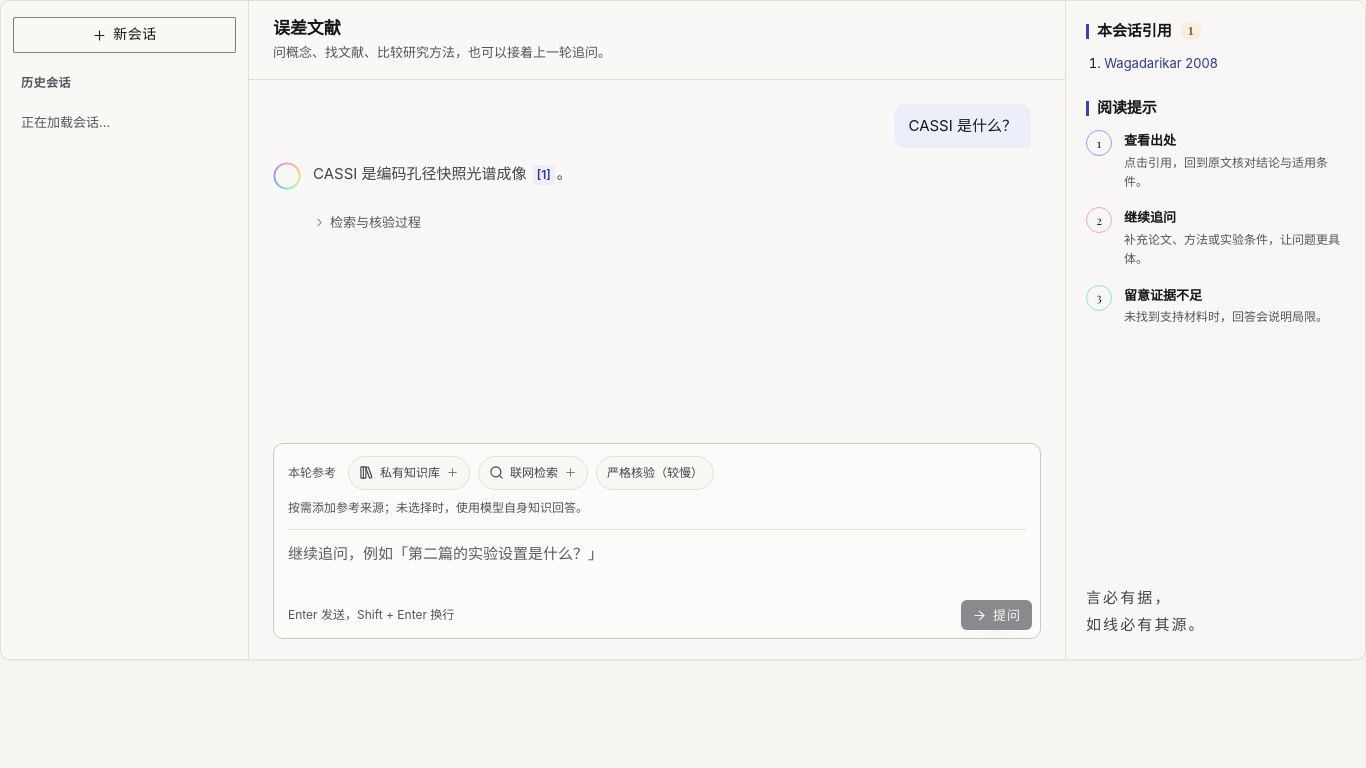
QaPage › recovers the new answer when the same question was answered after the cache loaded
Expected: the text "CASSI 是什么？" is shown, [908,114,1017,138]
Type "CASSI 是什么？" into the text box named "输入问题". click: [657, 562]
box: [274,530,1040,594]
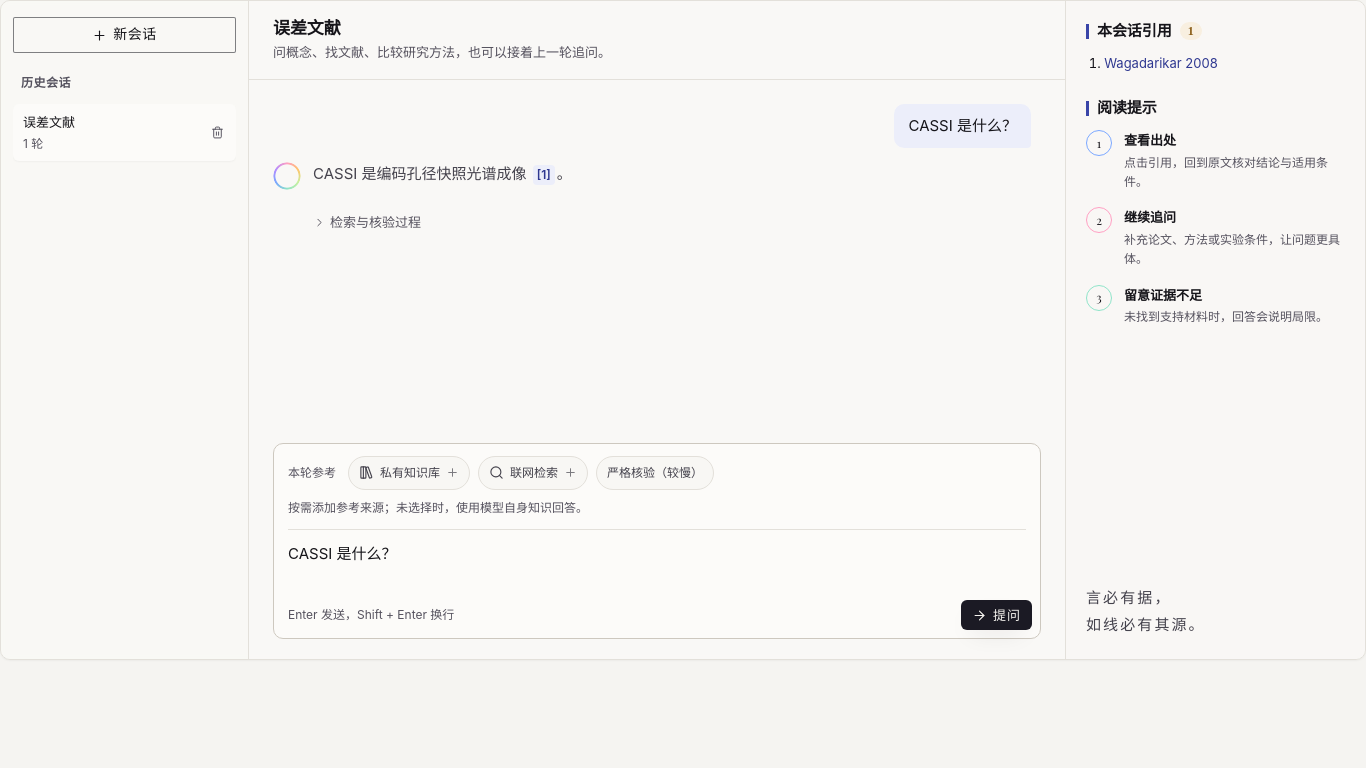
Click the button "提问". click: [996, 615]
box: [961,600,1032,630]
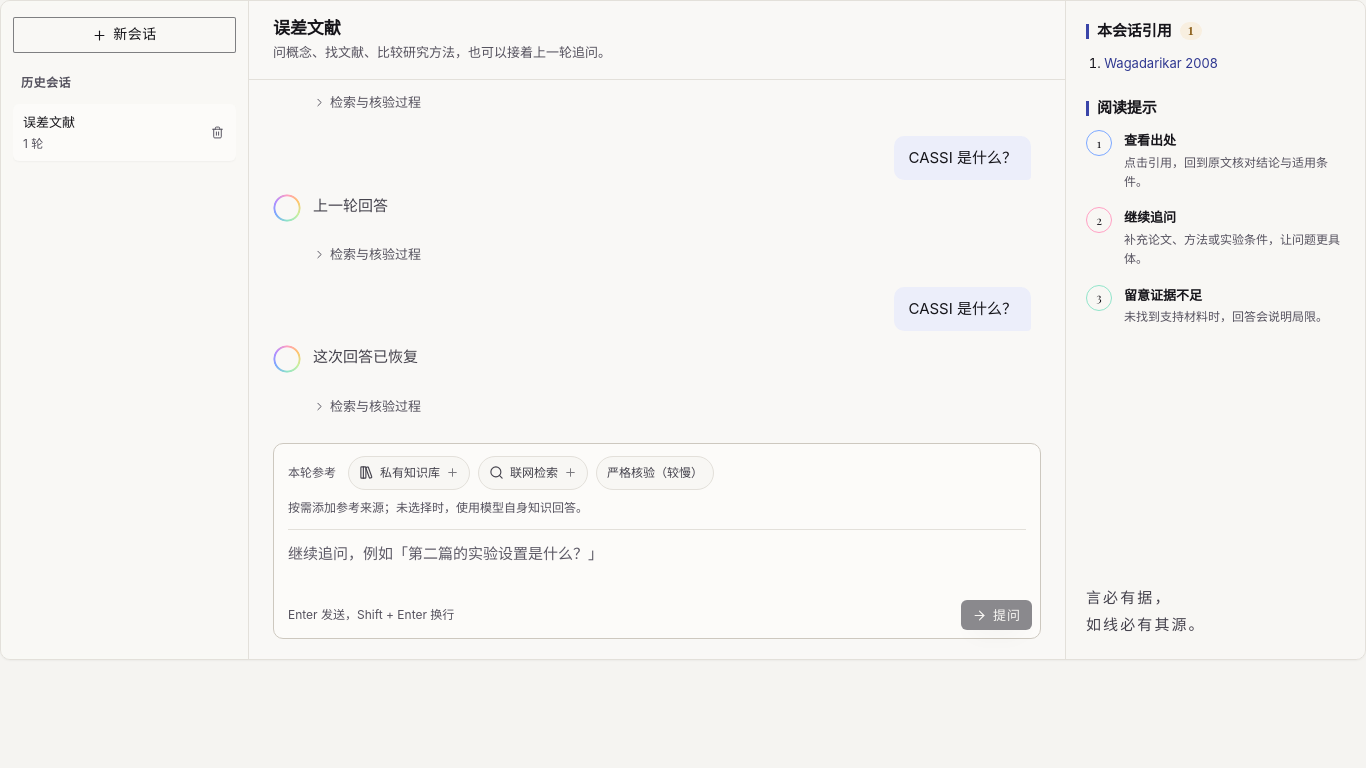
Expected: the message "正在加载会话…" is not shown
Expected: the text "这次回答已恢复" is shown, [313,347,418,366]
